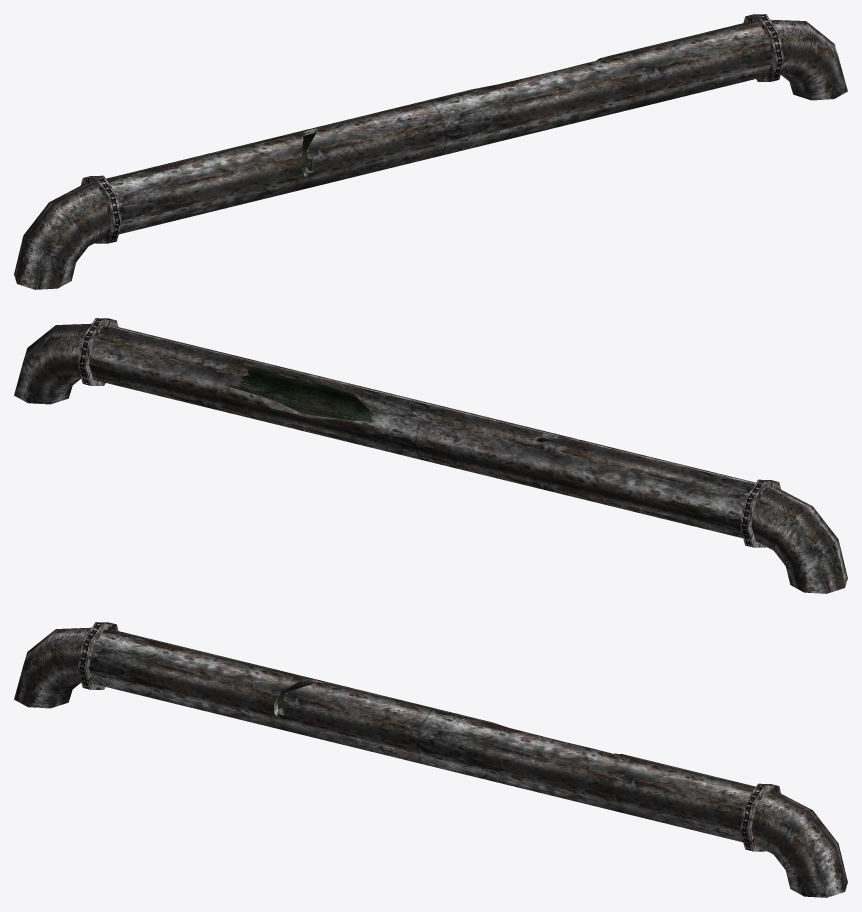
Rendered from curved_ends_grey_slum_4m.fbx.
3 renders of one model, top to bottom at view 1: azimuth 30°, elevation 25°; view 2: azimuth 150°, elevation 25°; view 3: azimuth 330°, elevation 25°, orthographic.
Visible parts, largest first — view 1: mesh_0; view 2: mesh_0; view 3: mesh_0.
Part boxes in pixels (x1,y1,x2,y2): mesh_0: (14,14,847,289); mesh_0: (14,318,847,593); mesh_0: (14,622,847,897).
Size of the model in its own units: 400 by 40.17 by 30.47.
Materials: 1 (1 with a texture image).
